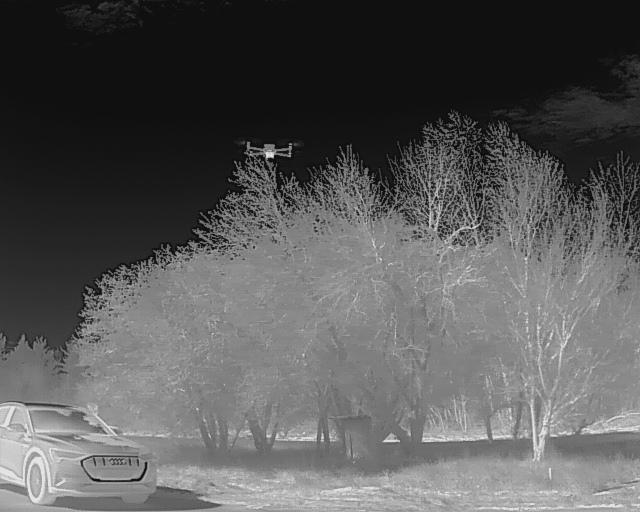drone: (230, 132, 308, 169)
